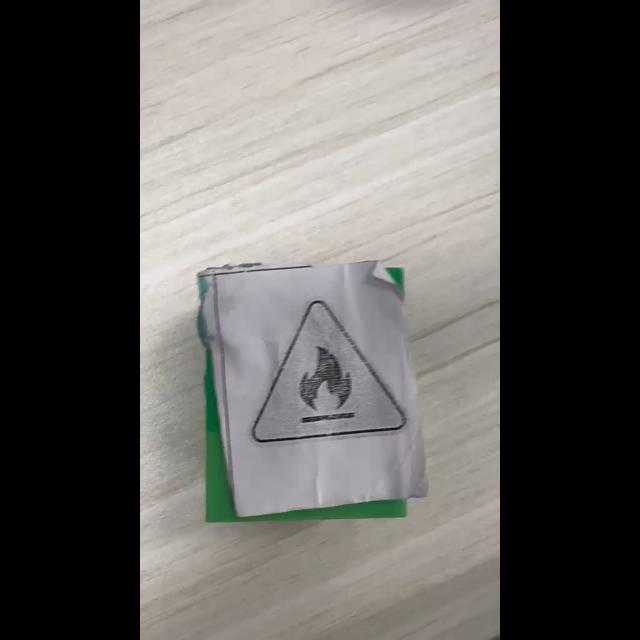Fire: (252, 300, 408, 446)
